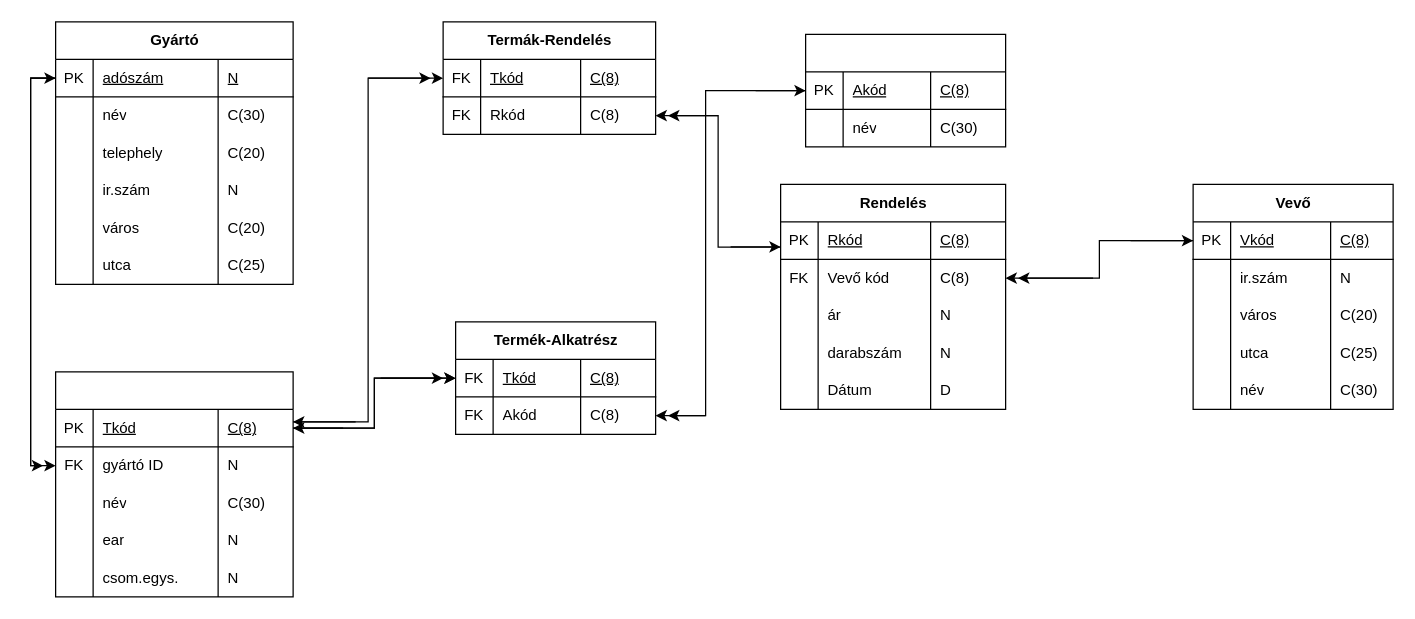
Some shapes in this 1415 by 619 pixel diagram are drawn without their labels. The box of each missing label's shape, as (x1, y1, x2, y2) in pixels:
Alkatrész: (804, 33, 1006, 147)
Termék: (54, 371, 293, 597)
